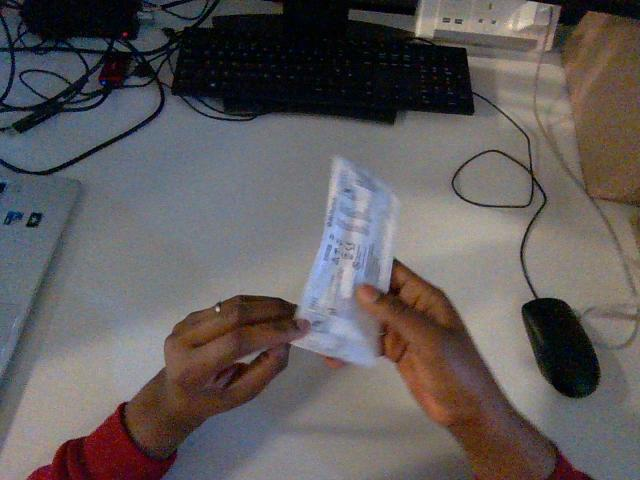syringe: (294, 157, 398, 365)
